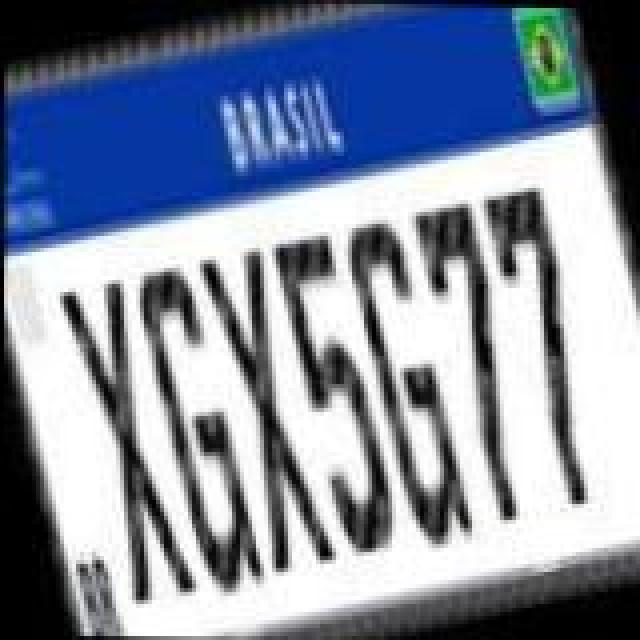5: (266, 226, 410, 562)
7: (474, 174, 622, 514), (406, 196, 554, 532)
G: (332, 206, 484, 554), (122, 258, 270, 606)
X: (50, 274, 206, 614), (190, 242, 342, 578)
